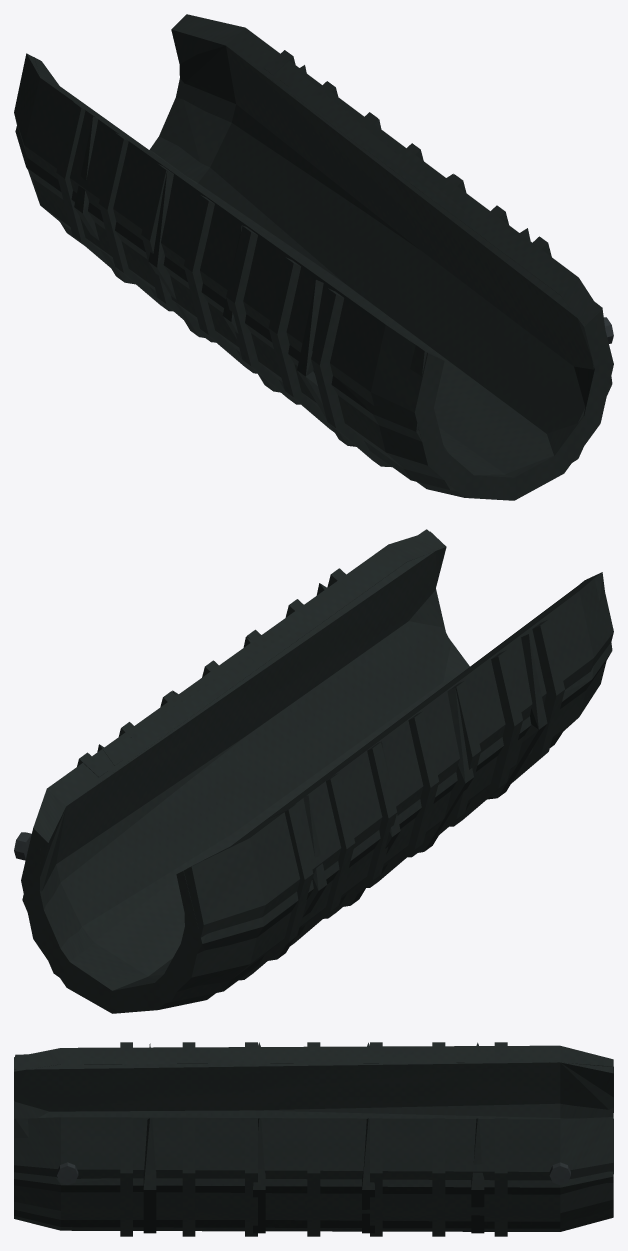
File: benelli_guard.glb
The picture shows the model from 3 angles, top to bottom: view 1: azimuth 30°, elevation 25°; view 2: azimuth 150°, elevation 25°; view 3: azimuth 270°, elevation 25°; orthographic projection. The views are drawn at different scales.
Parts seen in each view (by area): view 1: handguard__benelli_guard_LOD1_RAID_Secondary_Original_polyme, handguard__benelli_guard_LOD0_RAID_Secondary_Original_polyme; view 2: handguard__benelli_guard_LOD1_RAID_Secondary_Original_polyme, handguard__benelli_guard_LOD0_RAID_Secondary_Original_polyme; view 3: handguard__benelli_guard_LOD0_RAID_Secondary_Original_polyme, handguard__benelli_guard_LOD1_RAID_Secondary_Original_polyme, handguard__benelli_guard_LOD0_RAID_Secondary_Original_steel.
Part boxes in pixels (bbox=[...]): handguard__benelli_guard_LOD1_RAID_Secondary_Original_polyme: bbox=[15, 28, 612, 491]; handguard__benelli_guard_LOD0_RAID_Secondary_Original_polyme: bbox=[14, 14, 613, 500]; handguard__benelli_guard_LOD1_RAID_Secondary_Original_polyme: bbox=[22, 529, 612, 1013]; handguard__benelli_guard_LOD0_RAID_Secondary_Original_polyme: bbox=[21, 531, 613, 1013]; handguard__benelli_guard_LOD0_RAID_Secondary_Original_polyme: bbox=[14, 1042, 613, 1236]; handguard__benelli_guard_LOD1_RAID_Secondary_Original_polyme: bbox=[14, 1042, 613, 1233]; handguard__benelli_guard_LOD0_RAID_Secondary_Original_steel: bbox=[57, 1162, 570, 1185].
Bounding box in the file's own units: 0.0995 × 0.0762 × 0.2801.
2 materials, 2 textured.
